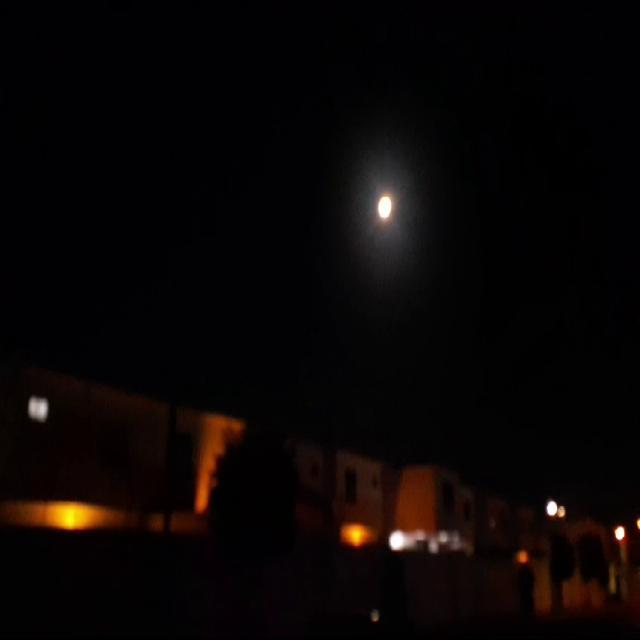moon: (358, 194, 382, 228)
